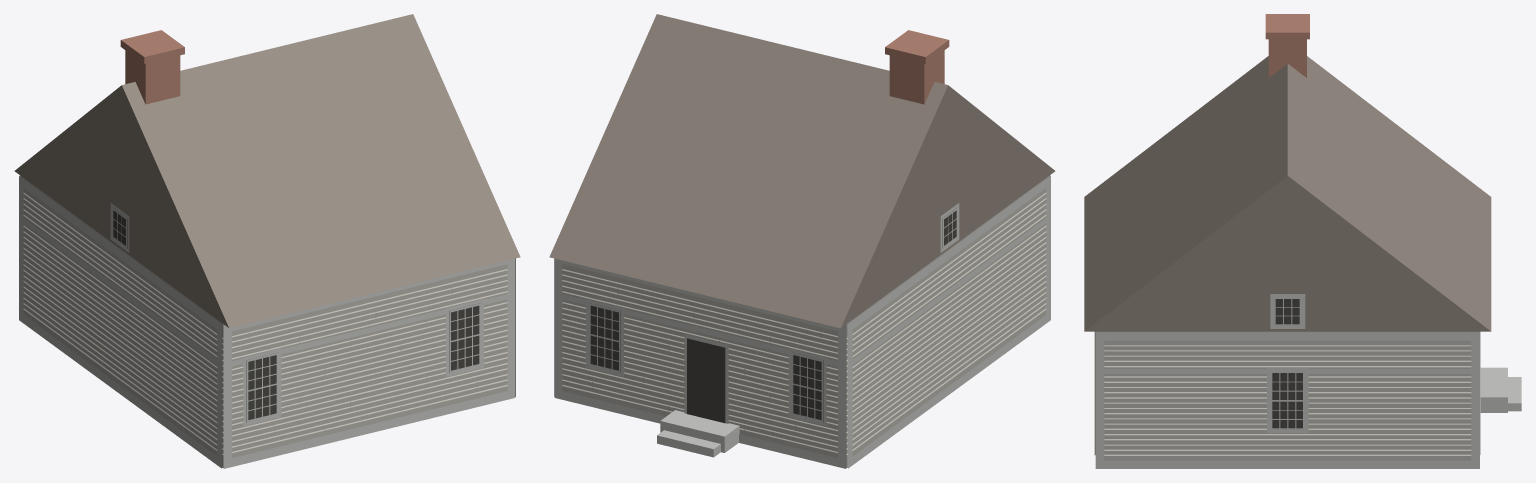
The model's file is recon_1835_blk_school_section_tier_81_d6_01__inferred_1835.glb.
The picture shows the model from 3 angles, left to right: view 1: azimuth 30°, elevation 25°; view 2: azimuth 150°, elevation 25°; view 3: azimuth 270°, elevation 25°; orthographic projection. The views are drawn at different scales.
Parts seen in each view (by area): view 1: recon_1835_blk_school_section_tier_81_d6_01__inferred_1835; view 2: recon_1835_blk_school_section_tier_81_d6_01__inferred_1835; view 3: recon_1835_blk_school_section_tier_81_d6_01__inferred_1835.
Boxes of the visible parts, x1,y1,x2,y2 form: recon_1835_blk_school_section_tier_81_d6_01__inferred_1835: (14,14,520,468); recon_1835_blk_school_section_tier_81_d6_01__inferred_1835: (549,14,1055,468); recon_1835_blk_school_section_tier_81_d6_01__inferred_1835: (1084,14,1521,468).
Size of the model in its own units: 7.12 by 7.89 by 9.63.
